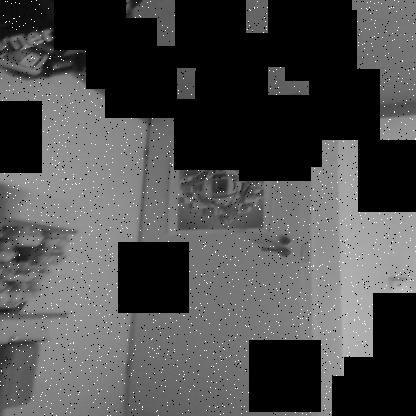Porte: (119, 91, 320, 415)
